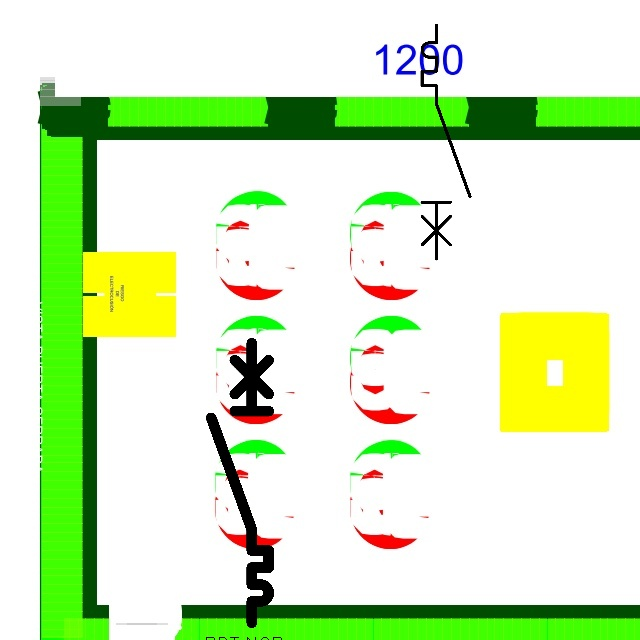interruptor_termomagnetico: (204, 336, 276, 630), (416, 19, 476, 265)
